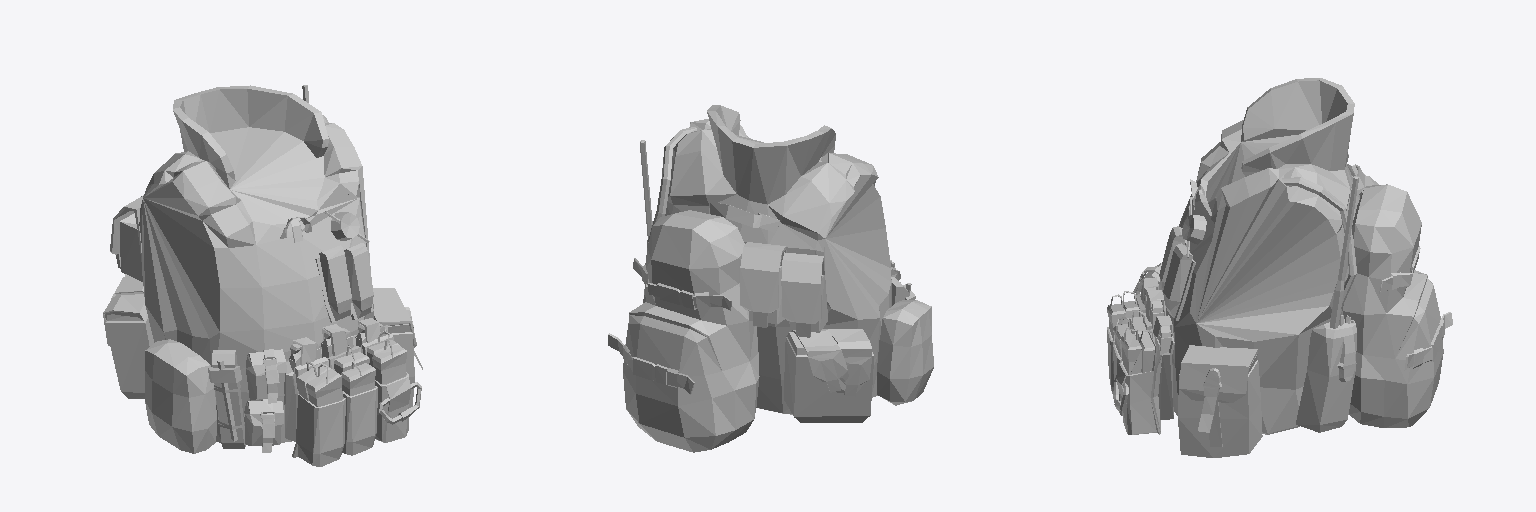
Rendered from vest.obj.
3 renders of one model, left to right at view 1: azimuth 30°, elevation 25°; view 2: azimuth 150°, elevation 25°; view 3: azimuth 270°, elevation 25°, orthographic.
Parts seen in each view (by area): view 1: campo; view 2: campo; view 3: campo.
Part boxes in pixels (x1,y1,x2,y2): campo: (103,85,422,466); campo: (608,105,933,452); campo: (1107,78,1452,457).
Size of the model in its own units: 54.1 by 58.98 by 62.67.